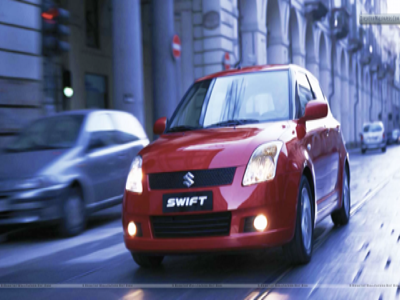licence: (163, 195, 212, 212)
